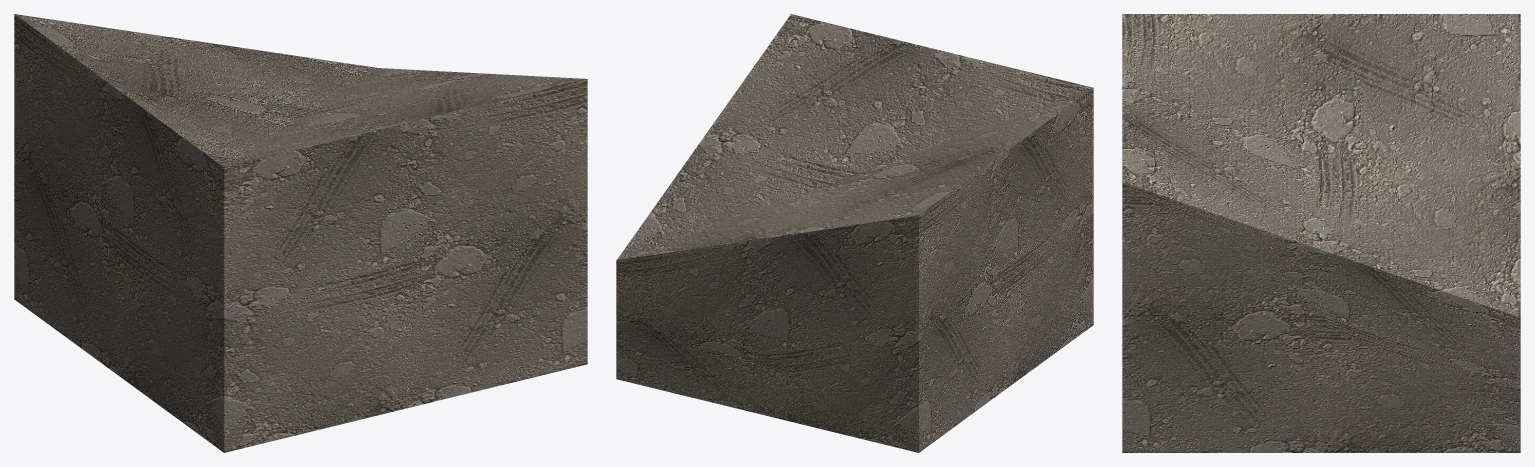
The model's file is asphalt_one_three.glb.
The picture shows the model from 3 angles, left to right: view 1: azimuth 30°, elevation 25°; view 2: azimuth 150°, elevation 25°; view 3: azimuth 270°, elevation 25°; orthographic projection. The views are drawn at different scales.
Visible parts, largest first — view 1: Cube.006; view 2: Cube.006; view 3: Cube.006.
Boxes of the visible parts, x1,y1,x2,y2 form: Cube.006: [14, 14, 587, 452]; Cube.006: [616, 14, 1093, 452]; Cube.006: [1122, 14, 1520, 452].
Bounding box in the file's own units: 2 × 1.5 × 2.
Materials: 1 (1 with a texture image).
